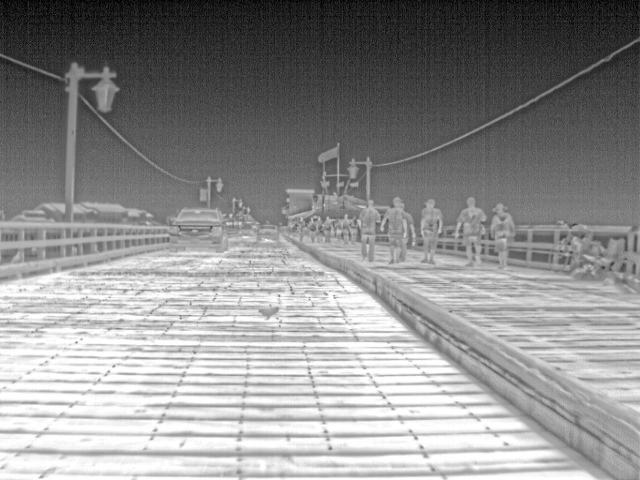car: (168, 207, 230, 253), (253, 224, 281, 243), (236, 222, 257, 238)
person: (486, 201, 519, 270), (456, 196, 488, 263), (382, 197, 410, 261), (418, 197, 444, 263), (356, 200, 382, 260), (305, 214, 319, 243), (320, 215, 334, 243), (293, 214, 307, 241)
